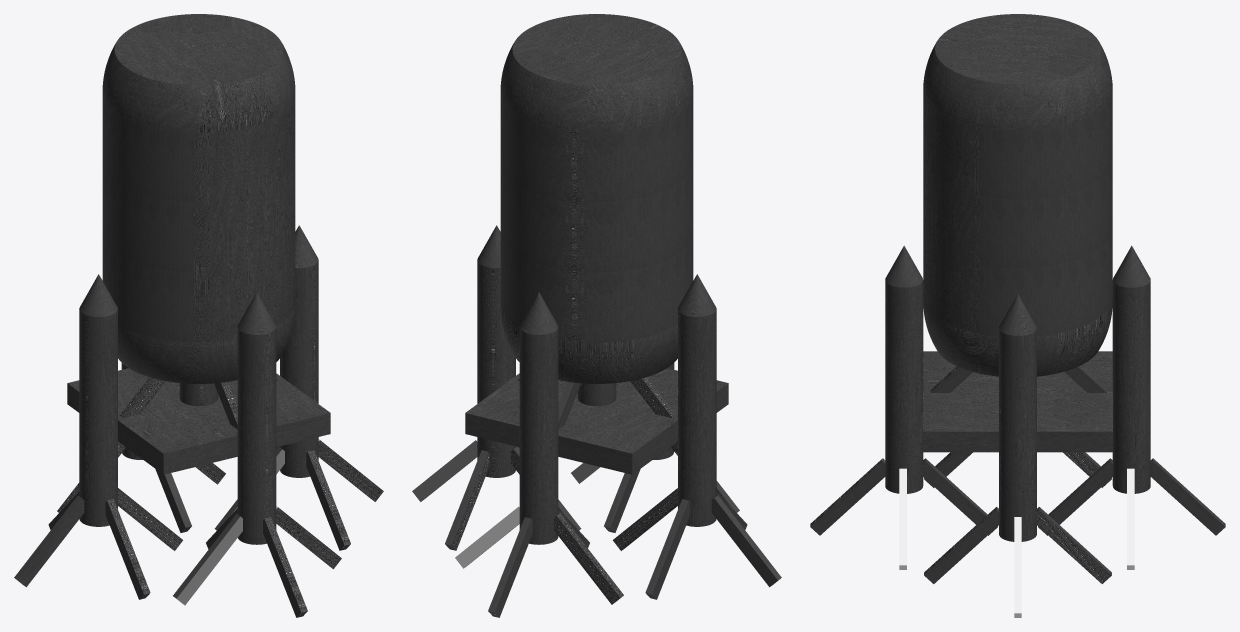
The model's file is Warhead.fbx.
3 renders of one model, left to right at view 1: azimuth 30°, elevation 25°; view 2: azimuth 150°, elevation 25°; view 3: azimuth 270°, elevation 25°, orthographic.
Parts seen in each view (by area): view 1: node_id55 (×16), node_id46, node_id34, node_id49, node_id28, node_id52, node_id37; view 2: node_id55 (×17), node_id34, node_id40, node_id28, node_id43, node_id37; view 3: node_id55 (×14), node_id43, node_id52, node_id37, node_id40, node_id49, node_id34.
Boxes of the visible parts, bbox=[...] form: node_id55 (×16): bbox=[14, 14, 350, 617]; node_id46: bbox=[173, 513, 242, 605]; node_id34: bbox=[318, 440, 383, 501]; node_id49: bbox=[276, 507, 341, 569]; node_id28: bbox=[79, 274, 117, 316]; node_id52: bbox=[237, 292, 276, 334]; node_id37: bbox=[295, 225, 318, 267]; node_id55 (×17): bbox=[445, 14, 781, 617]; node_id34: bbox=[412, 440, 477, 501]; node_id40: bbox=[455, 506, 519, 568]; node_id28: bbox=[678, 274, 716, 316]; node_id43: bbox=[519, 292, 558, 334]; node_id37: bbox=[477, 225, 500, 267]; node_id55 (×14): bbox=[810, 14, 1225, 583]; node_id43: bbox=[1113, 245, 1150, 287]; node_id52: bbox=[885, 245, 922, 287]; node_id37: bbox=[999, 294, 1036, 335]; node_id40: bbox=[1127, 468, 1134, 569]; node_id49: bbox=[899, 468, 906, 569]; node_id34: bbox=[1014, 517, 1021, 617].
Bounding box in the file's own units: 0.3972 × 0.512 × 0.3972.
Materials: 42 (33 with a texture image).
